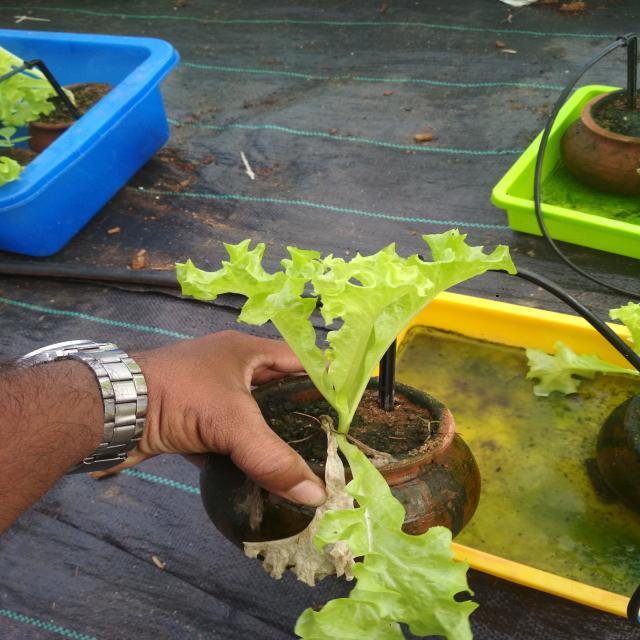Lettuce-Not-Ready-to-Harvest: (172, 225, 521, 640)
